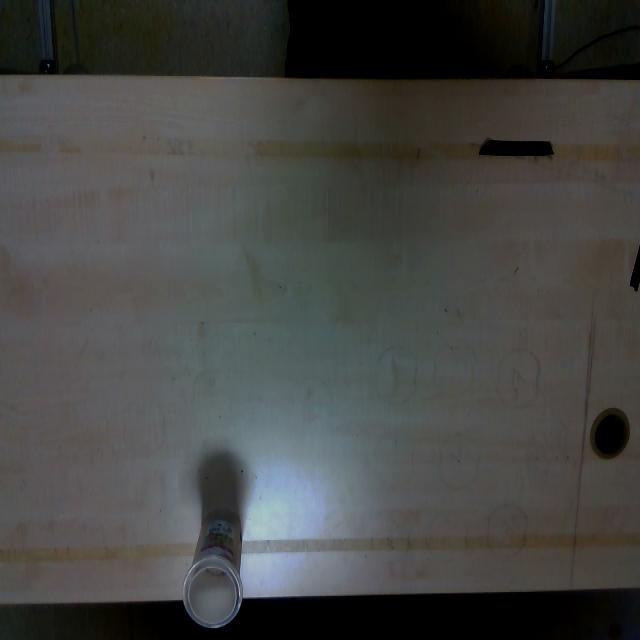cups: (181, 504, 245, 630)
